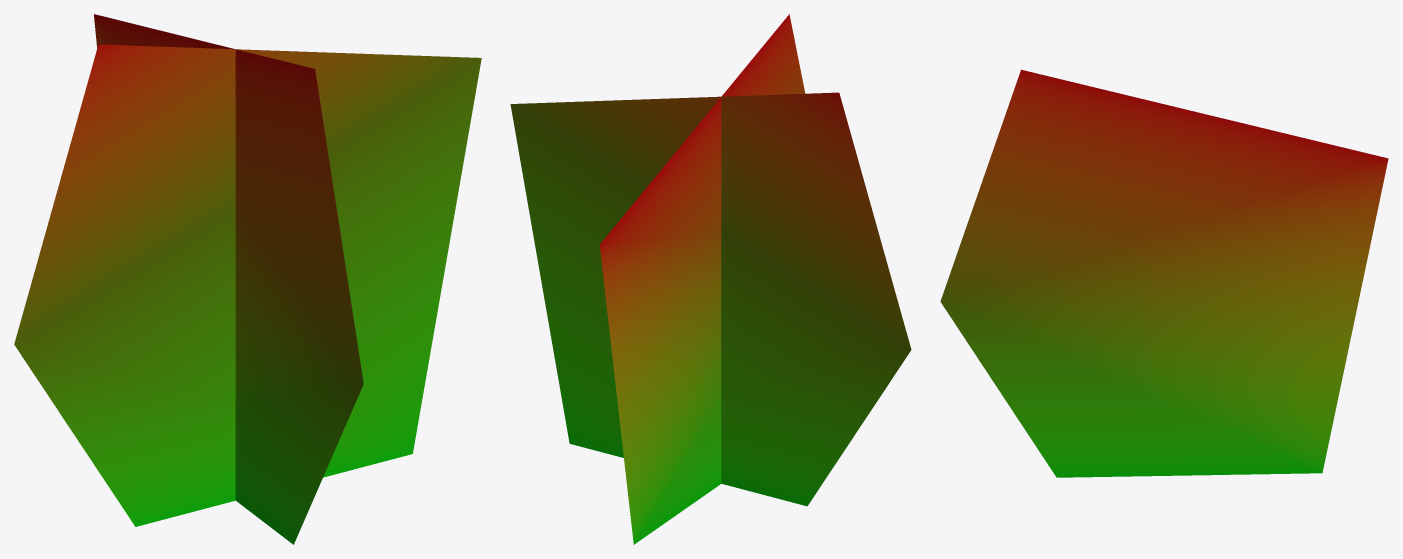
The model's file is Var8_LOD4.fbx.
The picture shows the model from 3 angles, left to right: view 1: azimuth 30°, elevation 25°; view 2: azimuth 150°, elevation 25°; view 3: azimuth 270°, elevation 25°; orthographic projection. The views are drawn at different scales.
Parts seen in each view (by area): view 1: _dde6_Var8_LOD4; view 2: _dde6_Var8_LOD4; view 3: _dde6_Var8_LOD4.
Part boxes in pixels (x1,y1,x2,y2): _dde6_Var8_LOD4: [14, 14, 481, 544]; _dde6_Var8_LOD4: [510, 14, 911, 544]; _dde6_Var8_LOD4: [940, 69, 1388, 477].
Bounding box in the file's own units: 13.8 × 13.86 × 13.8.
